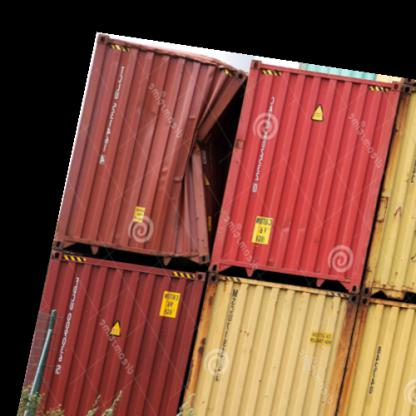Damage: (171, 84, 257, 240)
